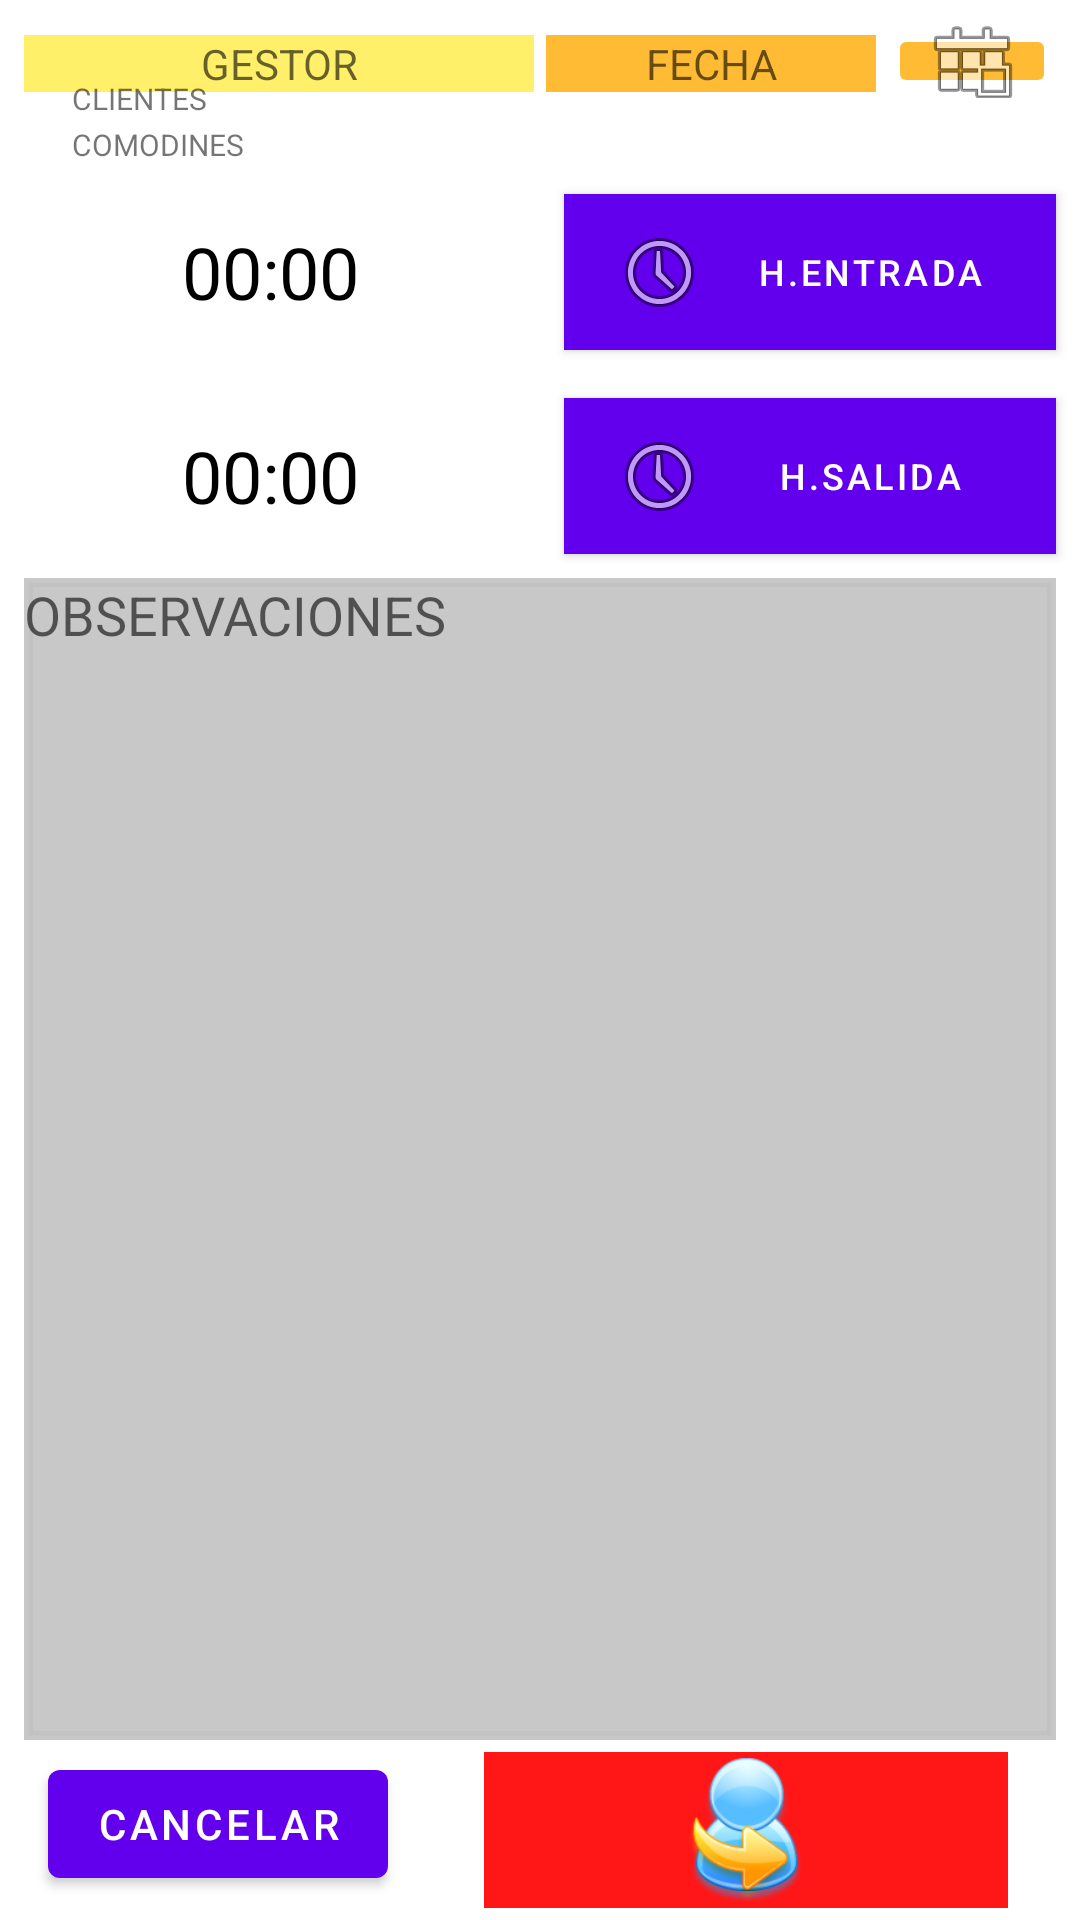

Point at icon controls on the screen. Image size 1080 × 1920, points as [x,y].
today: [972,62]
